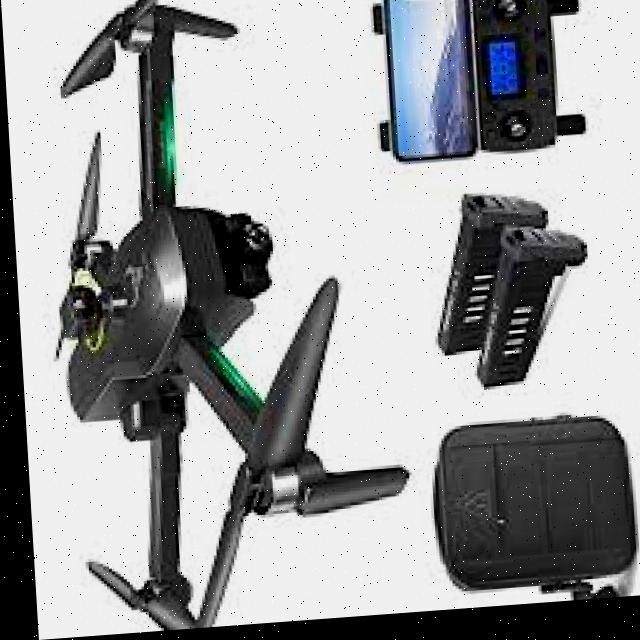drone: (1, 0, 397, 640)
